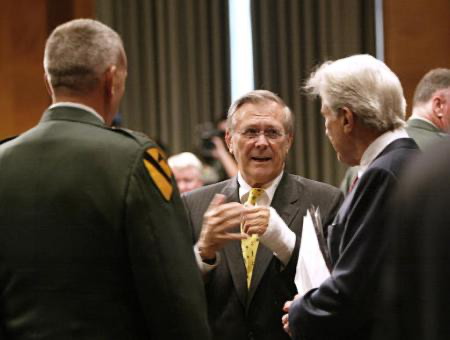Face: (233, 112, 289, 182), (311, 90, 356, 168), (169, 162, 204, 197)
